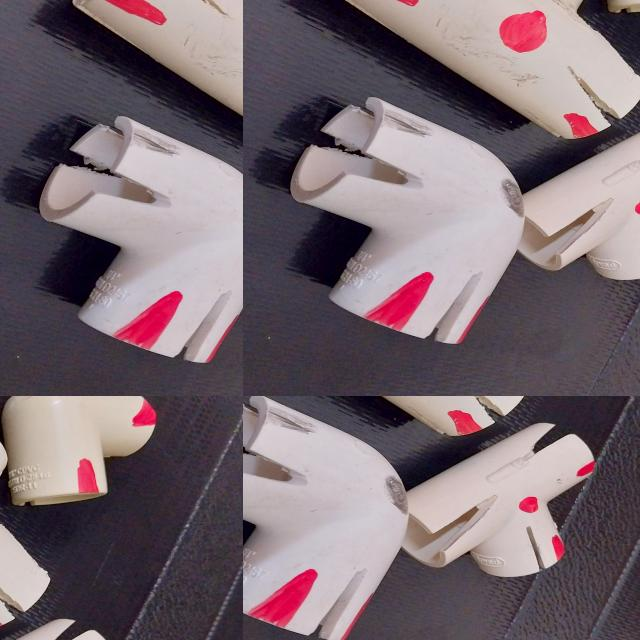Defective: (243, 420, 315, 483), (299, 576, 364, 640), (249, 572, 328, 624), (162, 130, 243, 166), (411, 502, 485, 538), (466, 498, 501, 530), (526, 526, 550, 572), (450, 396, 496, 417), (449, 413, 481, 432), (573, 463, 597, 479), (519, 497, 539, 514), (550, 536, 564, 558)
L Joint: (243, 398, 407, 640)
T Joint: (399, 421, 602, 571)
